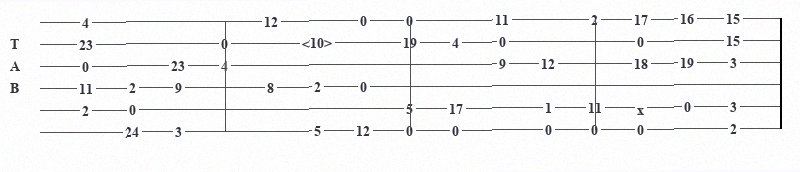0: (82, 57, 93, 71), (129, 101, 140, 115), (221, 35, 232, 49), (360, 79, 371, 93), (360, 13, 371, 27), (406, 123, 417, 137), (406, 13, 417, 27), (452, 123, 463, 137), (499, 35, 510, 49), (545, 123, 556, 137), (591, 123, 602, 137), (637, 35, 648, 49), (637, 123, 648, 137), (684, 101, 695, 115)
1: (545, 101, 556, 115)
11: (79, 79, 97, 93), (495, 13, 513, 27), (588, 101, 606, 115)
12: (264, 13, 282, 27), (356, 123, 374, 137), (541, 57, 559, 71)
15: (726, 13, 744, 27), (726, 35, 744, 49)
16: (680, 13, 698, 27)
17: (449, 101, 467, 115), (634, 13, 652, 27)
18: (634, 57, 652, 71)
19: (403, 35, 421, 49), (680, 57, 698, 71)
2: (82, 101, 93, 115), (129, 79, 140, 93), (314, 79, 325, 93), (591, 13, 602, 27), (730, 123, 741, 137)
23: (79, 35, 97, 49), (171, 57, 189, 71)
24: (125, 123, 143, 137)
3: (175, 123, 186, 137), (730, 57, 741, 71), (730, 101, 741, 115)
4: (82, 13, 93, 27), (221, 57, 232, 71), (452, 35, 463, 49)
5: (314, 123, 325, 137), (406, 101, 417, 115)
8: (267, 79, 278, 93)
9: (175, 79, 186, 93), (499, 57, 510, 71)
harmonic: (302, 35, 336, 49)
x: (637, 103, 648, 114)
